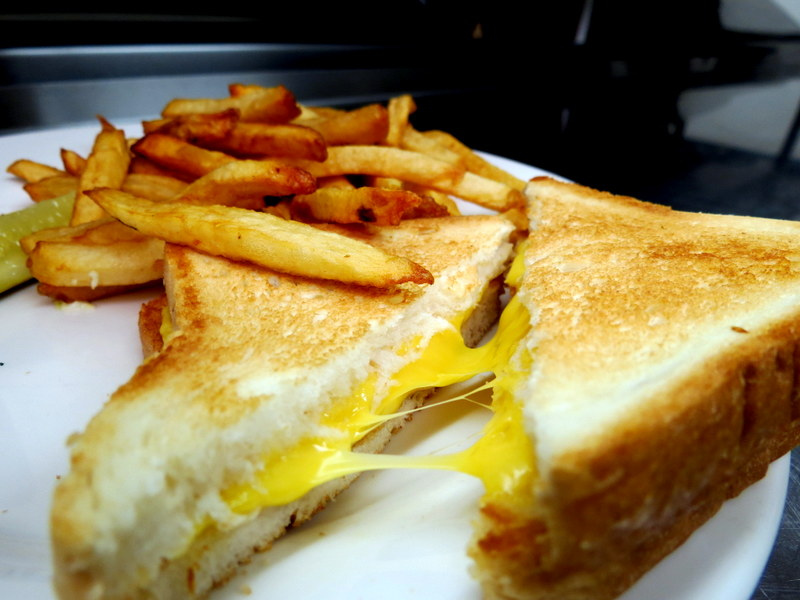slice of bread: (93, 202, 500, 571), (488, 149, 796, 593)
